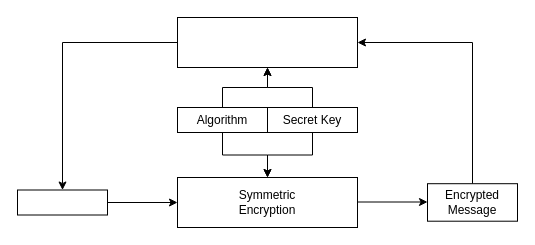
Image size: 535x245. Some labels were removed from this diagram. Here are the shapes that lost their labels. From the top down, the box of each, then its label:
(176, 16, 358, 68): Symmetric Decryption
(16, 189, 108, 215): Message
